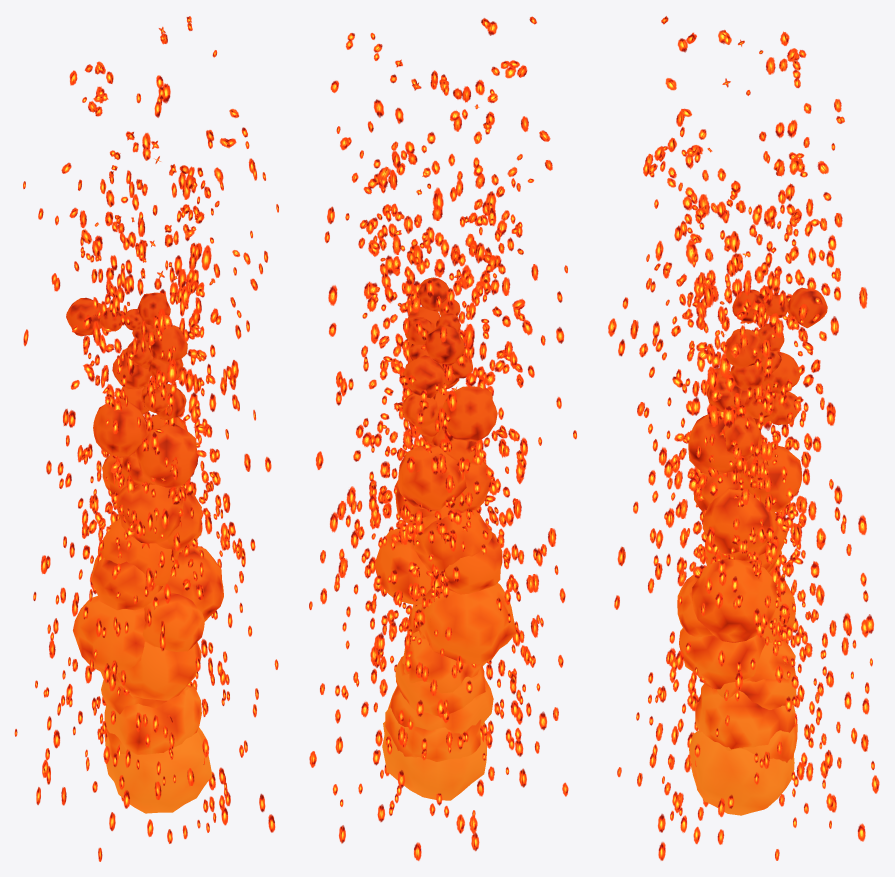
The model's file is lava_fountain_a.glb.
3 renders of one model, left to right at view 1: azimuth 30°, elevation 25°; view 2: azimuth 150°, elevation 25°; view 3: azimuth 270°, elevation 25°, orthographic.
Bounding box in the file's own units: 22.8 × 75.39 × 23.93.
Materials: 2 (1 with a texture image).
